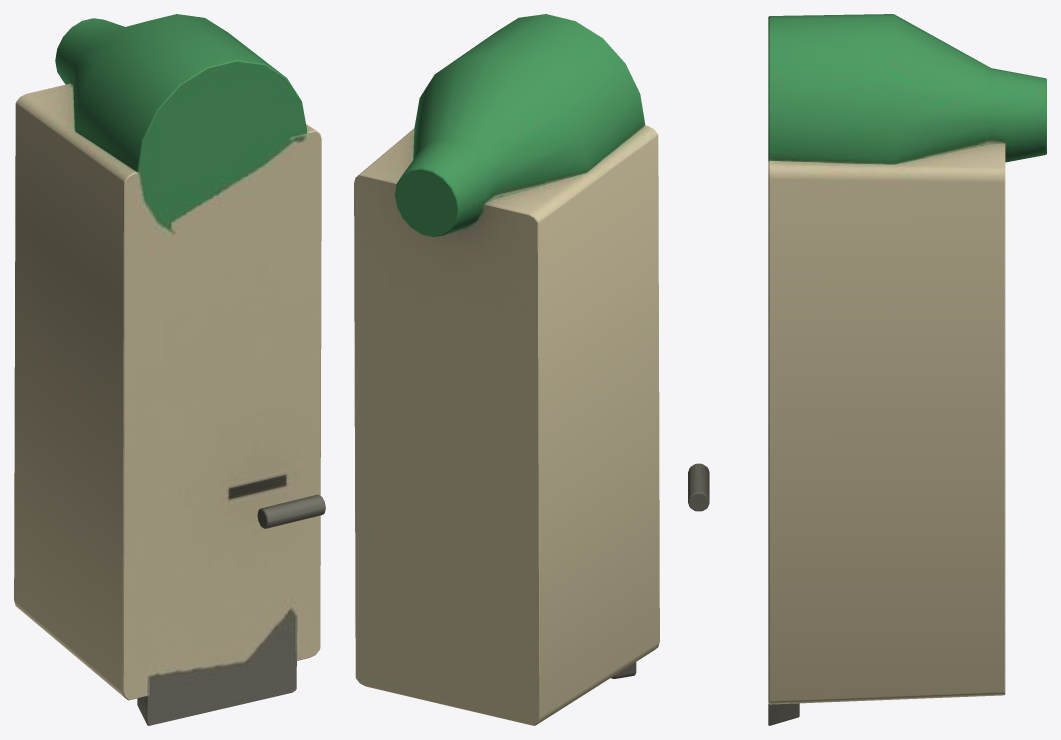
Rendered from LV_water_cooler.glb.
3 views of the same model, side by side, from view 1: azimuth 30°, elevation 25°; view 2: azimuth 150°, elevation 25°; view 3: azimuth 270°, elevation 25° (orthographic). The views are drawn at different scales.
Visible parts, largest first — view 1: LV_water_cooler; view 2: LV_water_cooler; view 3: LV_water_cooler.
Boxes of the visible parts, x1=… form: LV_water_cooler: x1=14, y1=14, x2=325, y2=725; LV_water_cooler: x1=354, y1=14, x2=659, y2=725; LV_water_cooler: x1=688, y1=14, x2=1046, y2=725.
Size of the model in its own units: 0.3399 by 1.06 by 0.5155.
Materials: 1 (1 with a texture image).
